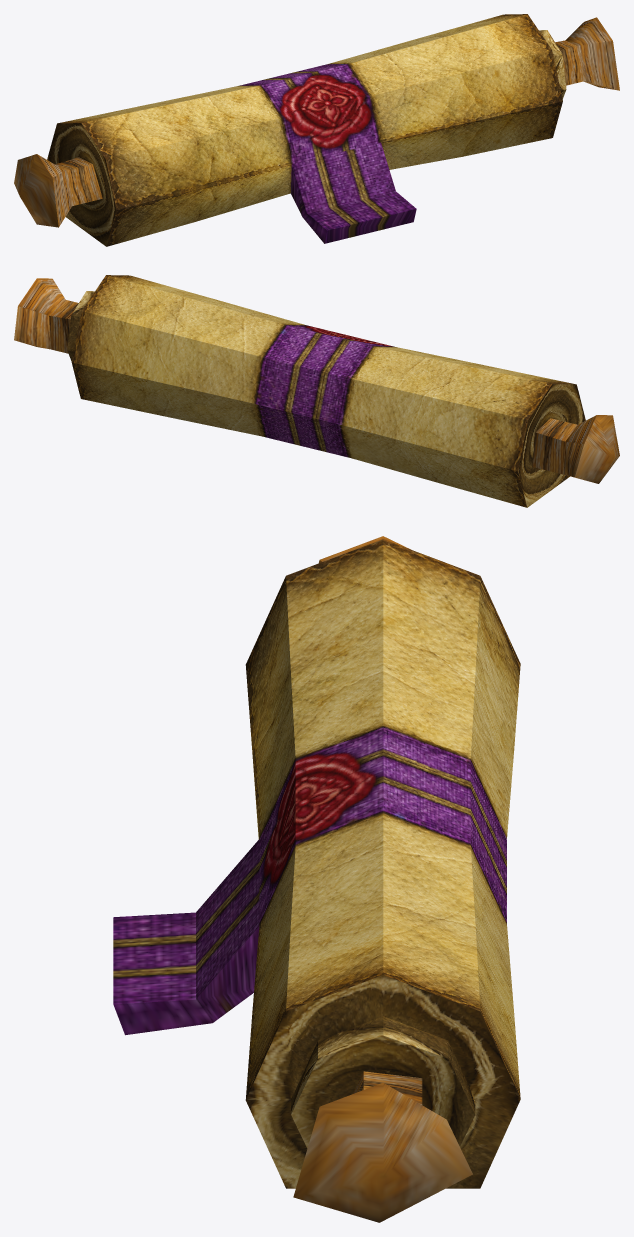
Rendered from mm9_deco_scroll3.glb.
The picture shows the model from 3 angles, top to bottom: view 1: azimuth 30°, elevation 25°; view 2: azimuth 150°, elevation 25°; view 3: azimuth 270°, elevation 25°; orthographic projection. The views are drawn at different scales.
Parts seen in each view (by area): view 1: Scroll3; view 2: Scroll3; view 3: Scroll3.
Part boxes in pixels (x1,y1,x2,y2): Scroll3: [14, 14, 619, 246]; Scroll3: [14, 275, 619, 507]; Scroll3: [113, 536, 520, 1222].
Bounding box in the file's own units: 0.5002 × 0.0944 × 0.1486.
1 material, 1 textured.
